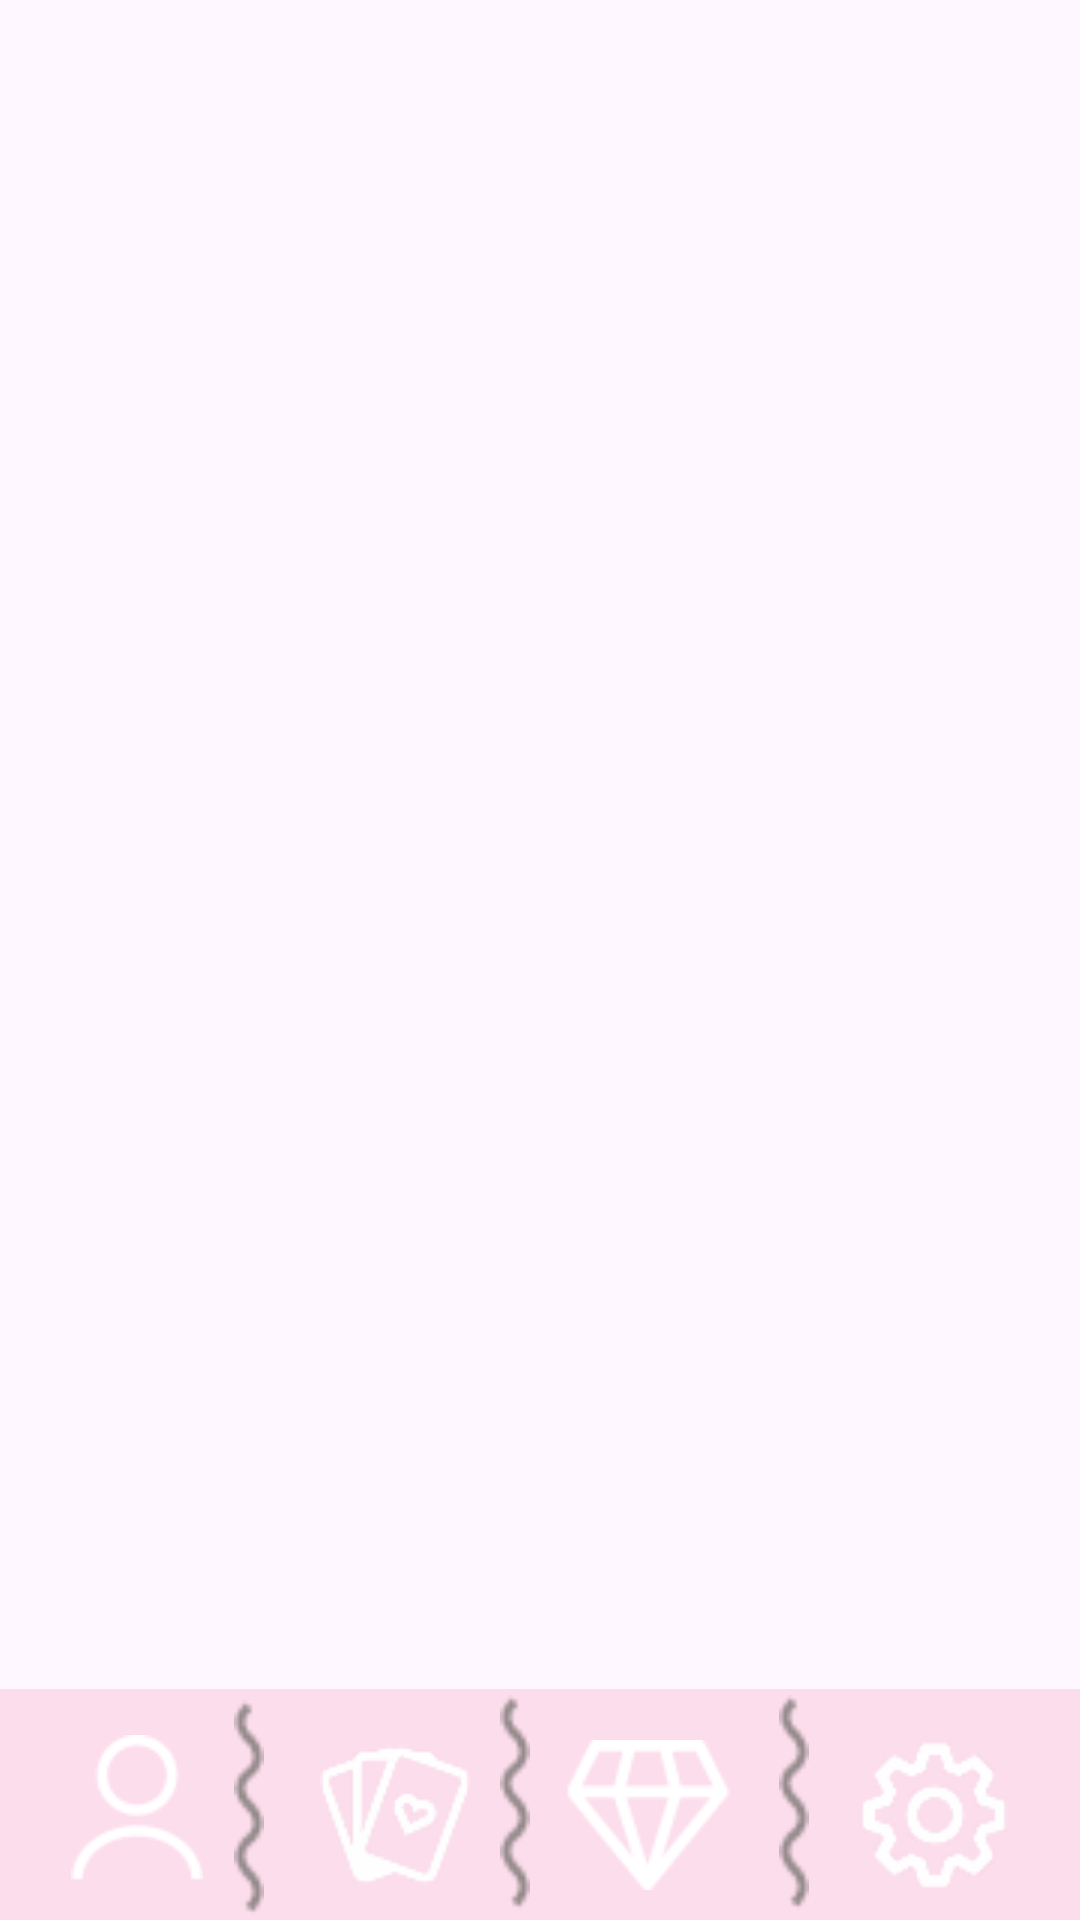

Where to tap for icons on this 1080 × 1920 app screen, as (x=x, y=y):
card: (x=395, y=1815)
prem: (x=648, y=1815)
profile: (x=137, y=1806)
settings: (x=934, y=1815)
